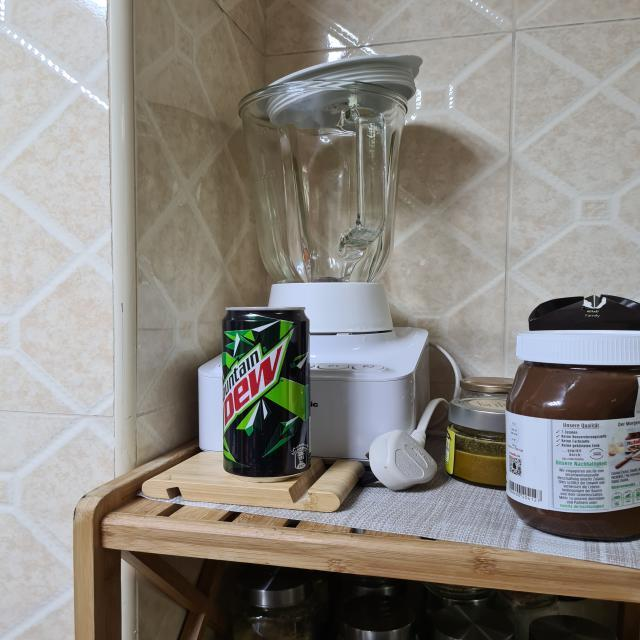can: (218, 302, 314, 483)
